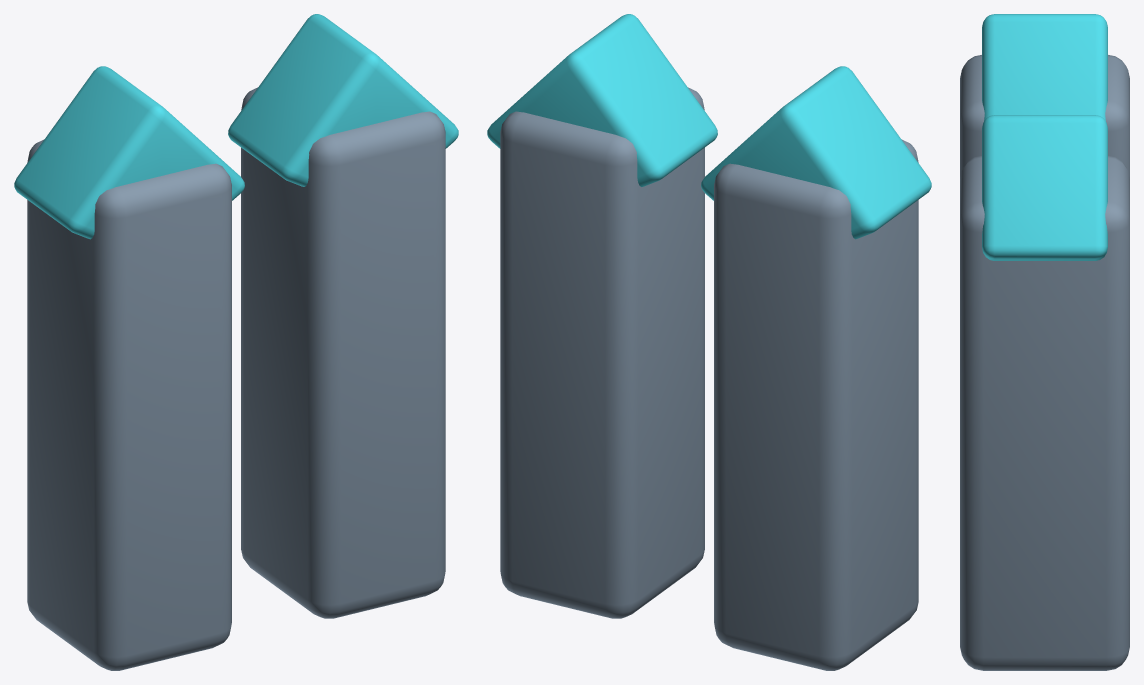
The model's file is greaves_v8.glb.
3 views of the same model, side by side, from view 1: azimuth 30°, elevation 25°; view 2: azimuth 150°, elevation 25°; view 3: azimuth 270°, elevation 25° (orthographic). The views are drawn at different scales.
Parts seen in each view (by area): view 1: DUELLIST_GREAVE_PRIMARY, DUELLIST_GREAVE_PRIMARY.001, DUELLIST_KNEE_ACCENT.001, DUELLIST_KNEE_ACCENT; view 2: DUELLIST_GREAVE_PRIMARY, DUELLIST_GREAVE_PRIMARY.001, DUELLIST_KNEE_ACCENT.001, DUELLIST_KNEE_ACCENT; view 3: DUELLIST_GREAVE_PRIMARY.001, DUELLIST_KNEE_ACCENT.001, DUELLIST_KNEE_ACCENT, DUELLIST_GREAVE_PRIMARY.
Part boxes in pixels (x1,y1,x2,y2): DUELLIST_GREAVE_PRIMARY: [27, 139, 231, 670]; DUELLIST_GREAVE_PRIMARY.001: [241, 87, 445, 618]; DUELLIST_KNEE_ACCENT.001: [228, 14, 458, 186]; DUELLIST_KNEE_ACCENT: [14, 66, 244, 239]; DUELLIST_GREAVE_PRIMARY: [714, 139, 918, 670]; DUELLIST_GREAVE_PRIMARY.001: [500, 87, 704, 618]; DUELLIST_KNEE_ACCENT.001: [487, 14, 717, 186]; DUELLIST_KNEE_ACCENT: [701, 66, 931, 239]; DUELLIST_GREAVE_PRIMARY.001: [960, 156, 1129, 670]; DUELLIST_KNEE_ACCENT.001: [982, 115, 1107, 260]; DUELLIST_KNEE_ACCENT: [982, 14, 1107, 120]; DUELLIST_GREAVE_PRIMARY: [960, 55, 1129, 178].
Bounding box in the file's own units: 1.38 × 1.86 × 0.54.
